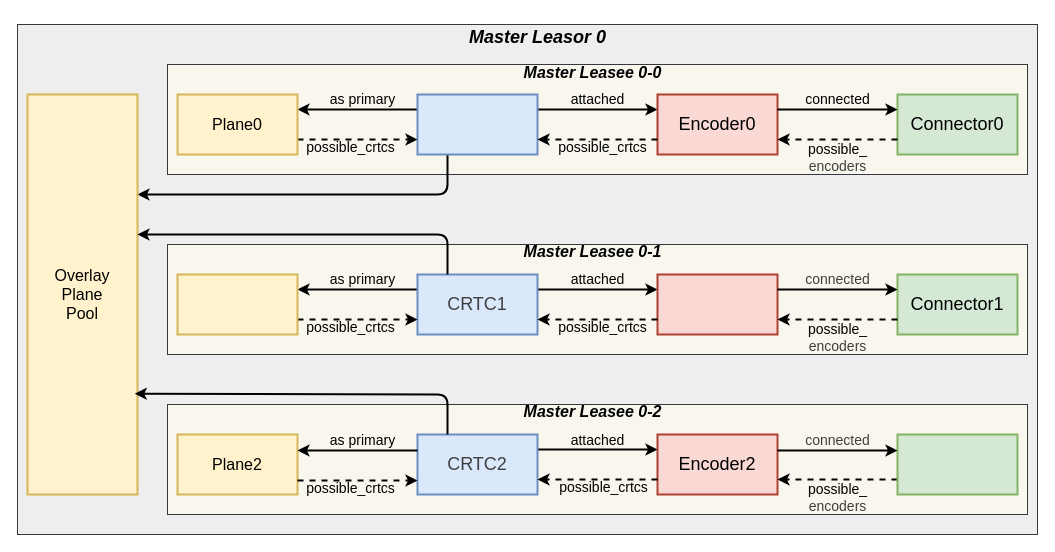
Image size: 1055x552. Some labels were removed from this diagram. The box of each missing label's shape, as (x1, y1, x2, y2) in pixels:
Connector2: (896, 433, 1018, 495)
CRTC0: (416, 93, 538, 155)
Encoder1: (656, 273, 778, 335)
Plane1: (176, 273, 298, 335)
